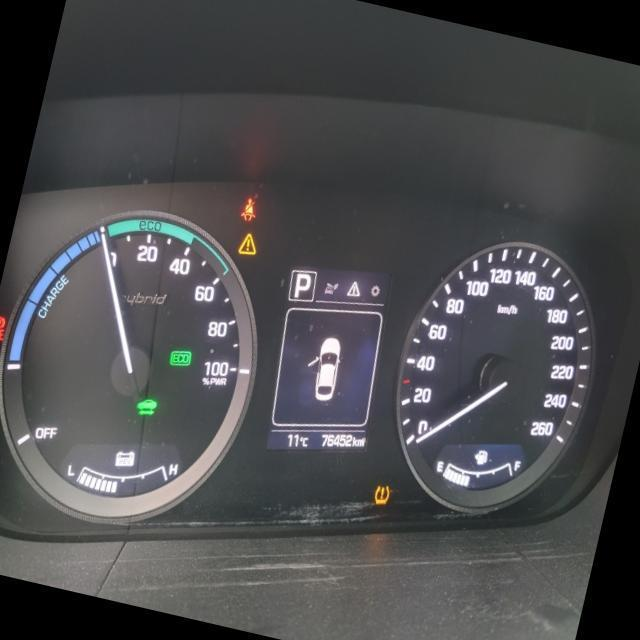Central Warning lamp: (236, 230, 259, 256)
